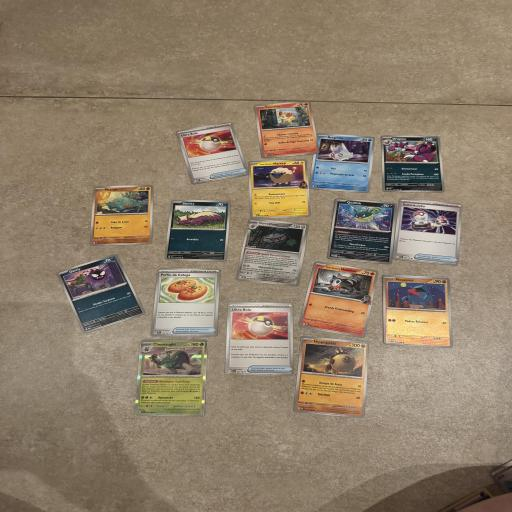card: (56, 246, 147, 342), (292, 335, 372, 418), (298, 259, 379, 338), (135, 339, 208, 416), (226, 301, 295, 377), (236, 216, 309, 287), (383, 275, 454, 348), (392, 197, 465, 266), (150, 268, 221, 337), (176, 120, 250, 186), (327, 197, 398, 265), (164, 199, 231, 261), (88, 185, 155, 246), (309, 132, 375, 193), (254, 100, 320, 159), (248, 159, 311, 219), (380, 135, 445, 193)
